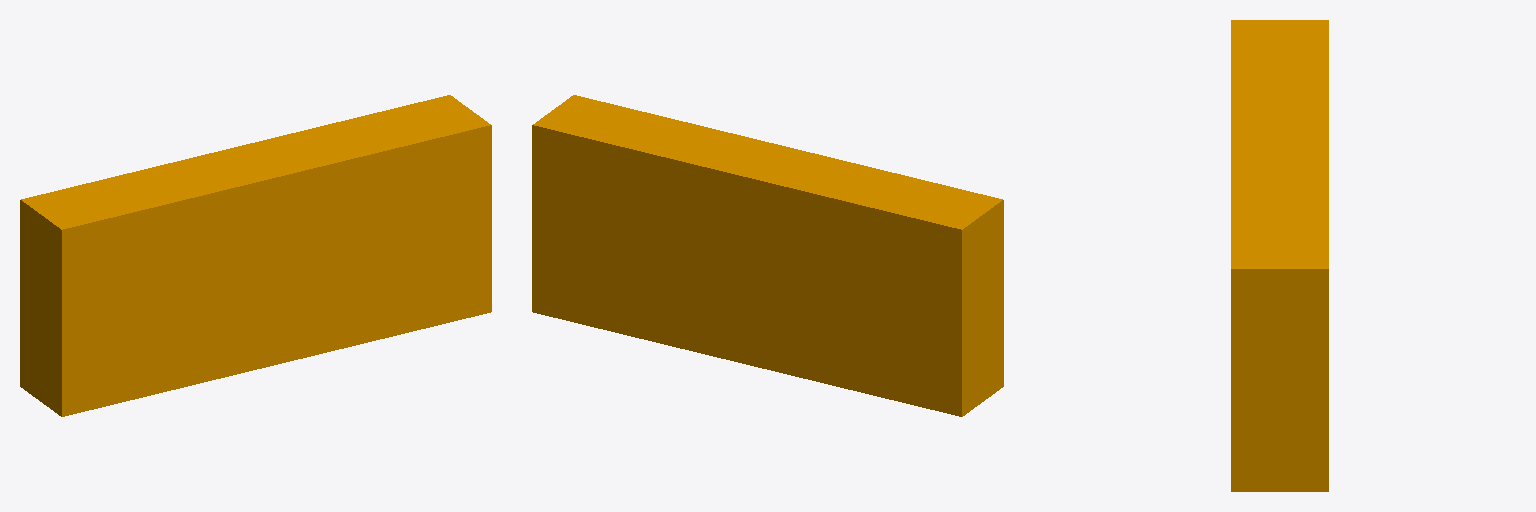
URDF robot description (simple_box):
 <robot name="simple_box">
  <link name="my_box">
    <inertial>
      <origin xyz="0 0 0" />
      <mass value="1.0" />
      <inertia  ixx="1.0" ixy="0.0"  ixz="0.0"  iyy="100.0"  iyz="0.0"  izz="1.0" />
    </inertial>
    <visual>
      <origin xyz="0 0 0"/>
      <geometry>
        <box size="0.6 0.1 0.25" />
      </geometry>
    </visual>
    <collision>
      <origin xyz="0 0 0"/>
      <geometry>
        <box size="0.6 0.1 0.25" />
      </geometry>
    </collision>
  </link>
  <gazebo reference="my_box">
    <material>Gazebo/Orange</material>
  </gazebo>
  <gazebo>
    <static>true</static>
  </gazebo>
</robot>

--- Facts derived from the render (not from the file) ---
3 views of the same robot in one strip: view 1: azimuth 30°, elevation 25°; view 2: azimuth 150°, elevation 25°; view 3: azimuth 270°, elevation 25° (orthographic).
Robot: simple_box — 1 links, 0 joints (none); root link my_box; default pose: all joints at 0.
Links seen in each view (by area): view 1: my_box; view 2: my_box; view 3: my_box.
Link boxes in pixels (x1=…): my_box: x1=20, y1=95, x2=491, y2=416; my_box: x1=532, y1=95, x2=1003, y2=416; my_box: x1=1231, y1=20, x2=1328, y2=491.
Bounding box of the posed robot: 0.6 × 0.1 × 0.25 m (x, y, z).
Geometry: primitives only (box / cylinder / sphere), no mesh files.
